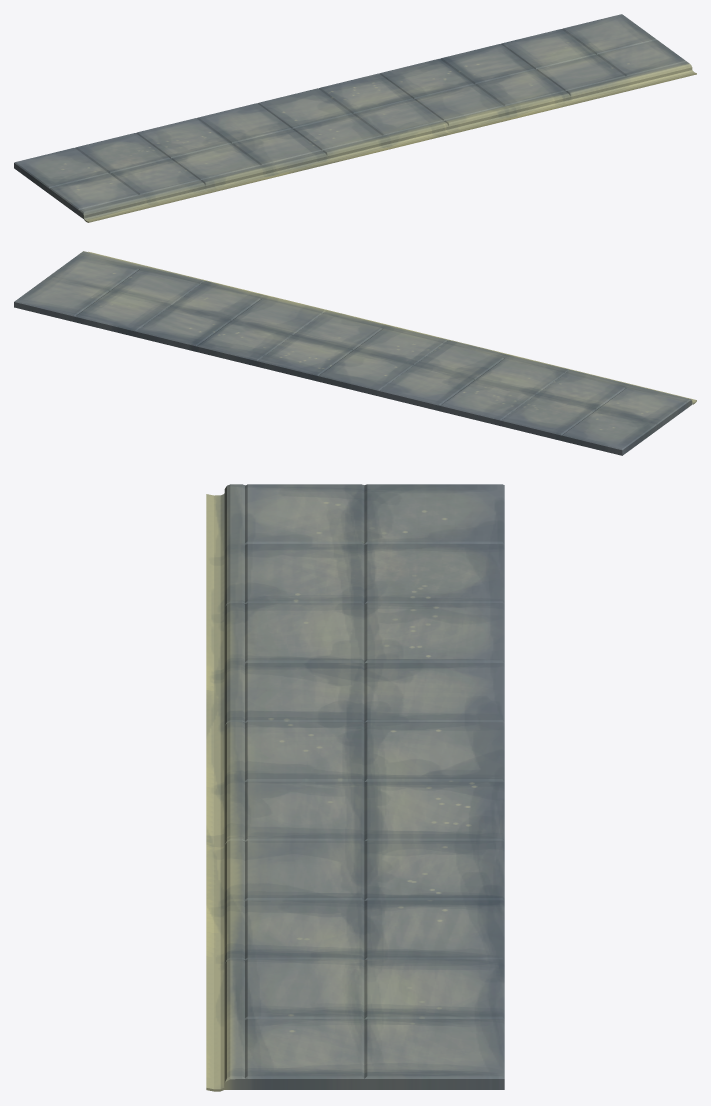
Rendered from Sidewalk_CurbBig.gltf.
3 renders of one model, top to bottom at view 1: azimuth 30°, elevation 25°; view 2: azimuth 150°, elevation 25°; view 3: azimuth 270°, elevation 25°, orthographic. The views are drawn at different scales.
Visible parts, largest first — view 1: SideWalkCurb_Big; view 2: SideWalkCurb_Big; view 3: SideWalkCurb_Big.
Part boxes in pixels (x1,y1,x2,y2): SideWalkCurb_Big: (14, 14, 696, 222); SideWalkCurb_Big: (14, 251, 696, 455); SideWalkCurb_Big: (206, 484, 504, 1091).
Size of the model in its own units: 13.28 by 0.1497 by 2.82.
Materials: 1 (1 with a texture image).
